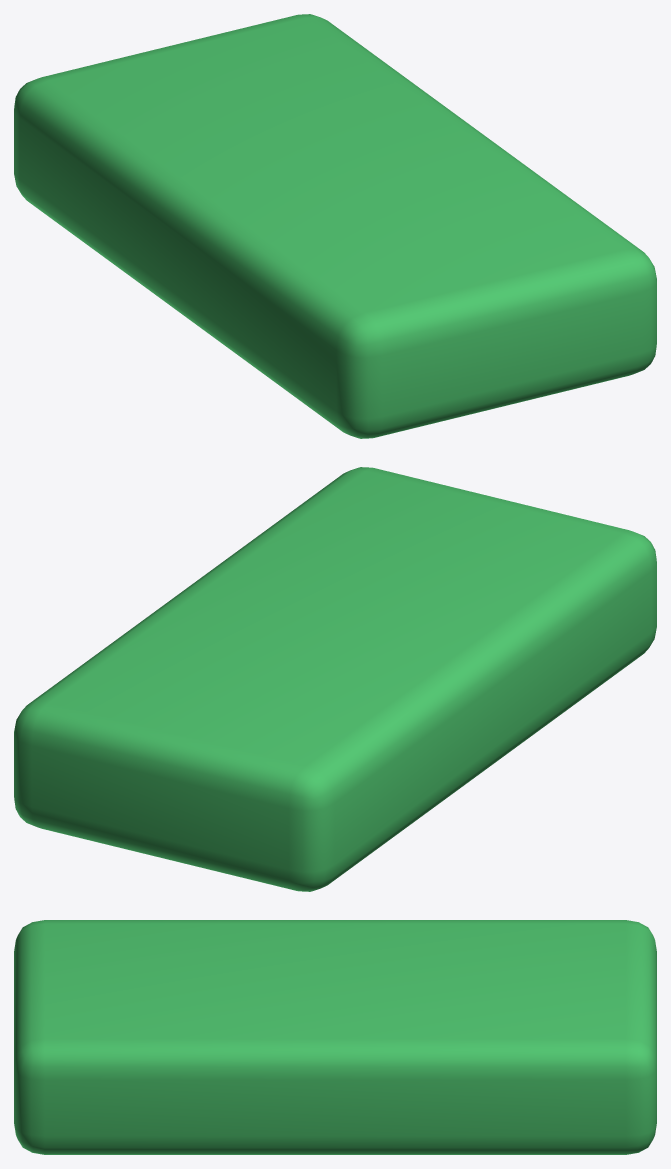
The model's file is ground_type_04.FBX.
The picture shows the model from 3 angles, top to bottom: view 1: azimuth 30°, elevation 25°; view 2: azimuth 150°, elevation 25°; view 3: azimuth 270°, elevation 25°; orthographic projection. The views are drawn at different scales.
Visible parts, largest first — view 1: ground_type_04; view 2: ground_type_04; view 3: ground_type_04.
Part boxes in pixels (bbox=[...]): ground_type_04: bbox=[14, 14, 656, 438]; ground_type_04: bbox=[14, 467, 656, 891]; ground_type_04: bbox=[14, 920, 656, 1154].
Bounding box in the file's own units: 1080 × 2080 × 400.
Materials: 1 (1 with a texture image).
